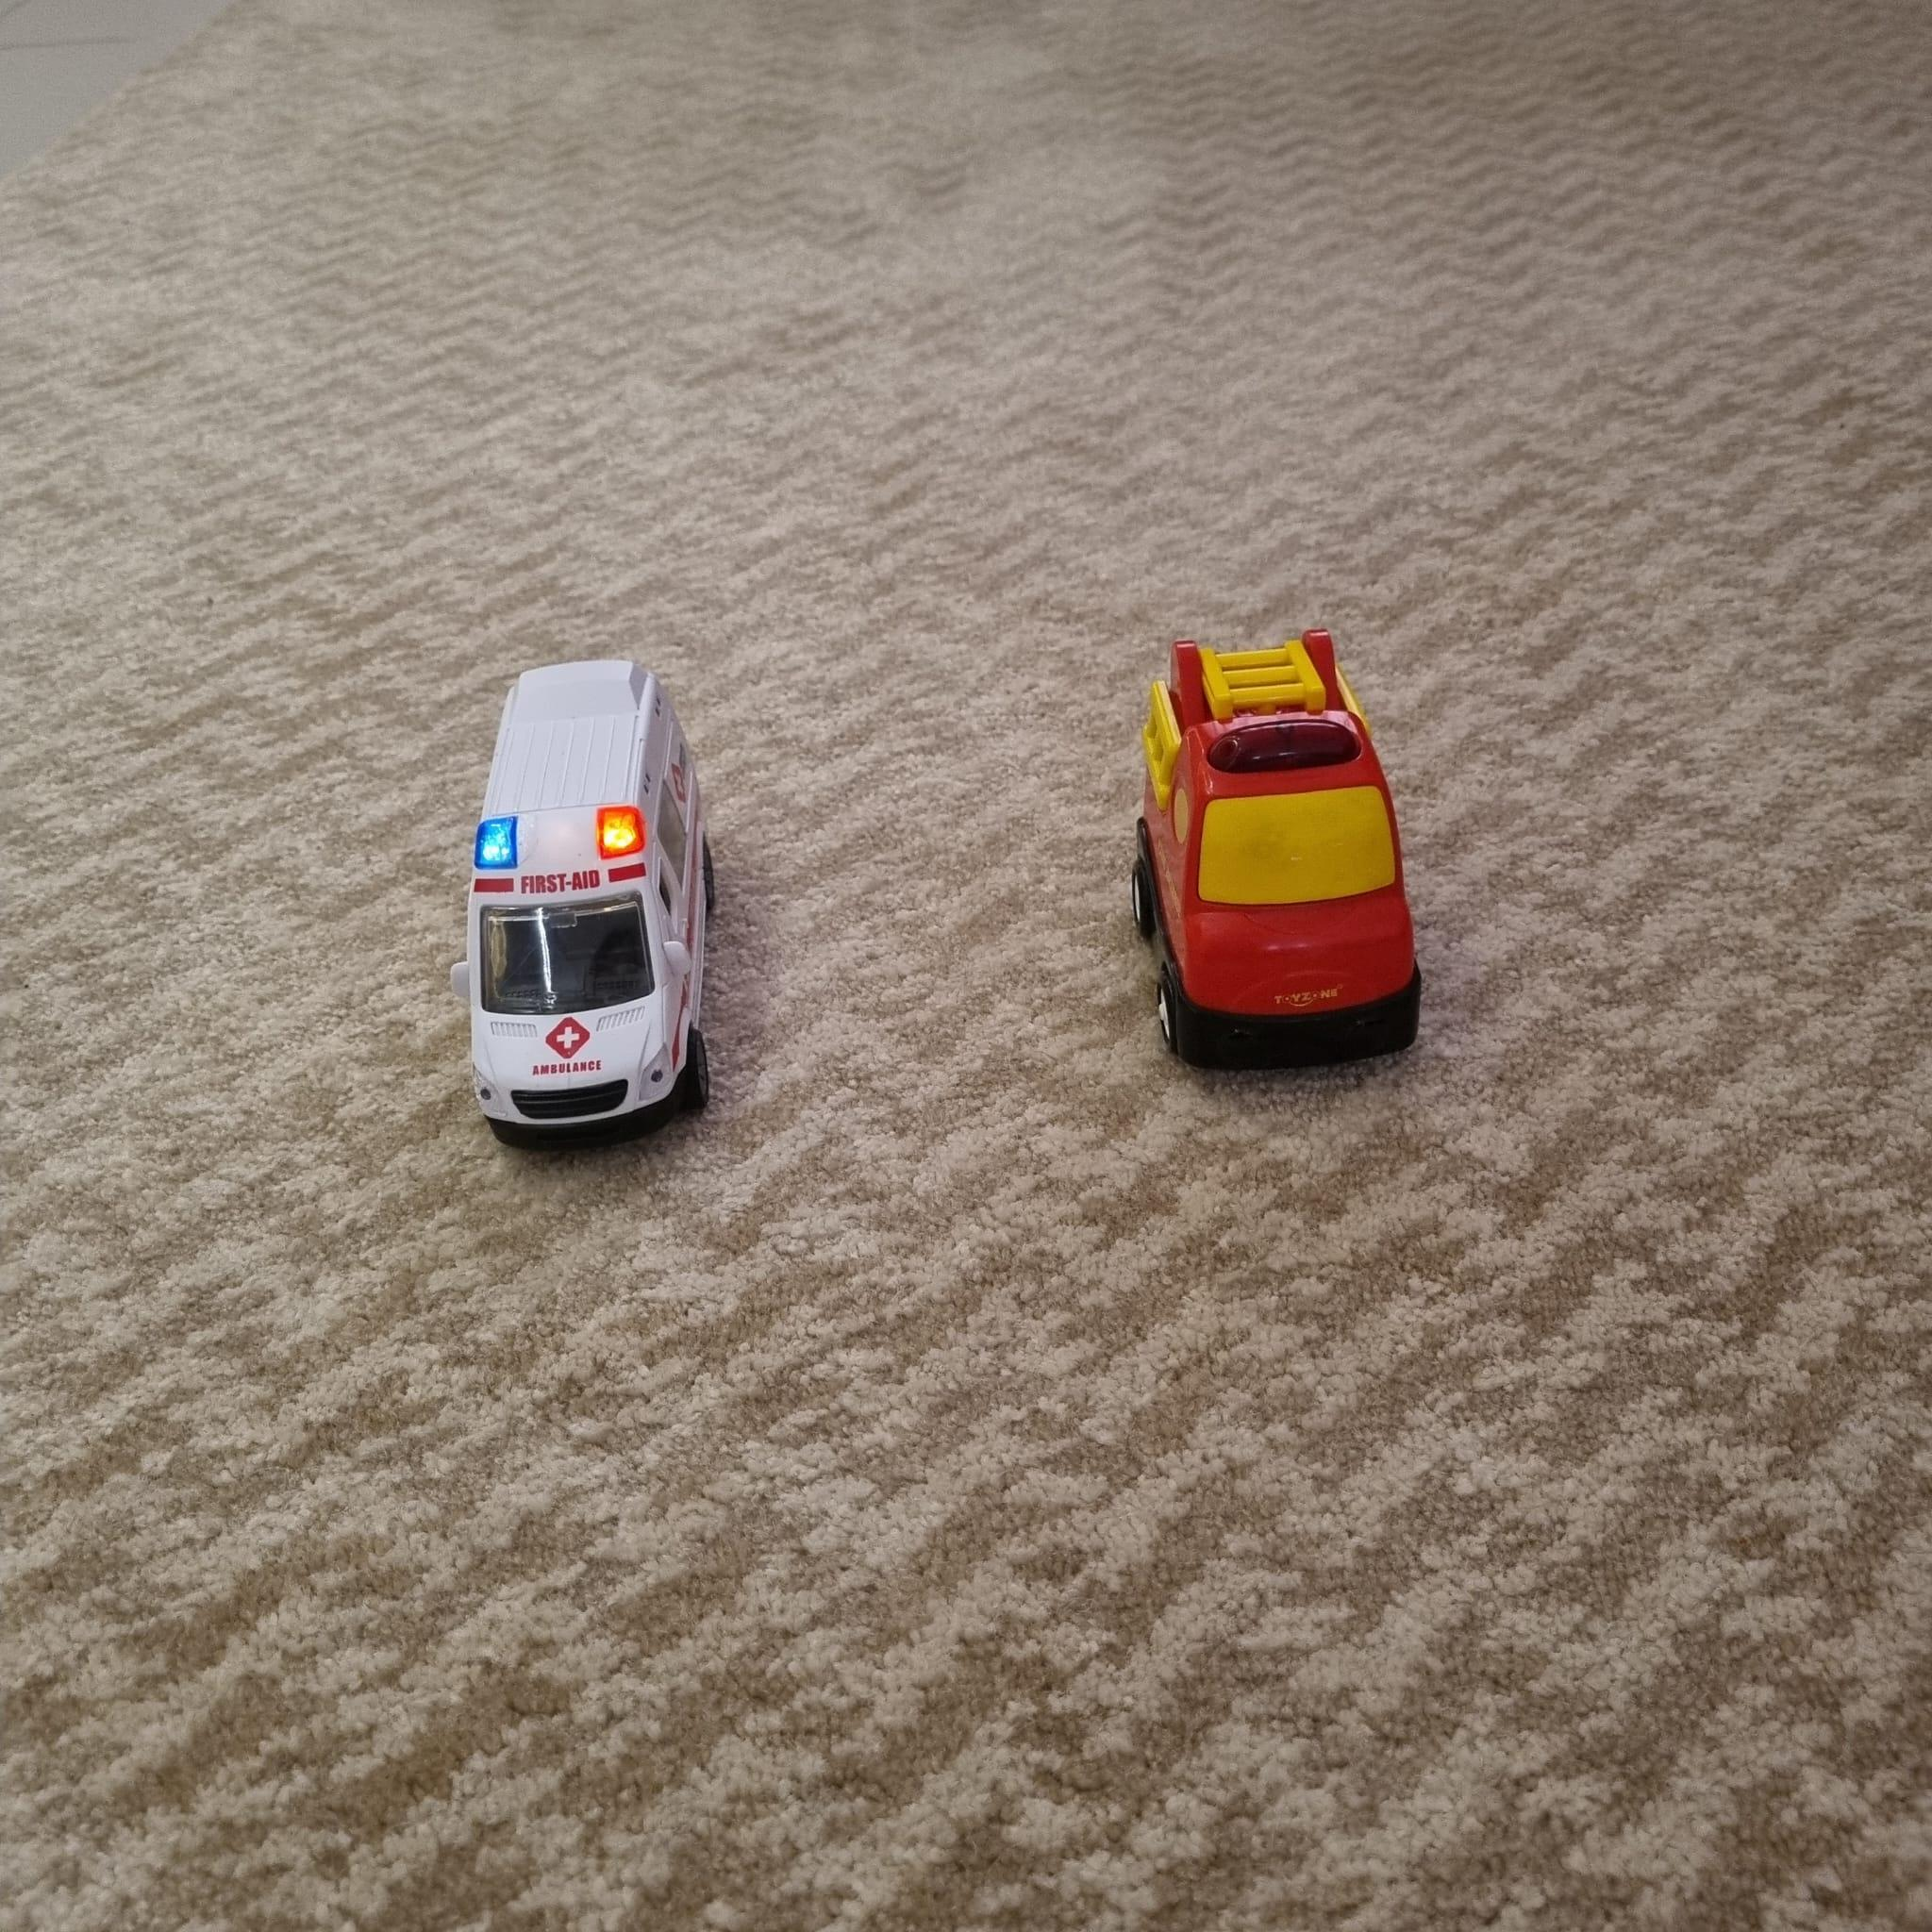ambulance_on: (446, 658, 713, 1155)
firetruck_off: (1131, 633, 1424, 1067)
